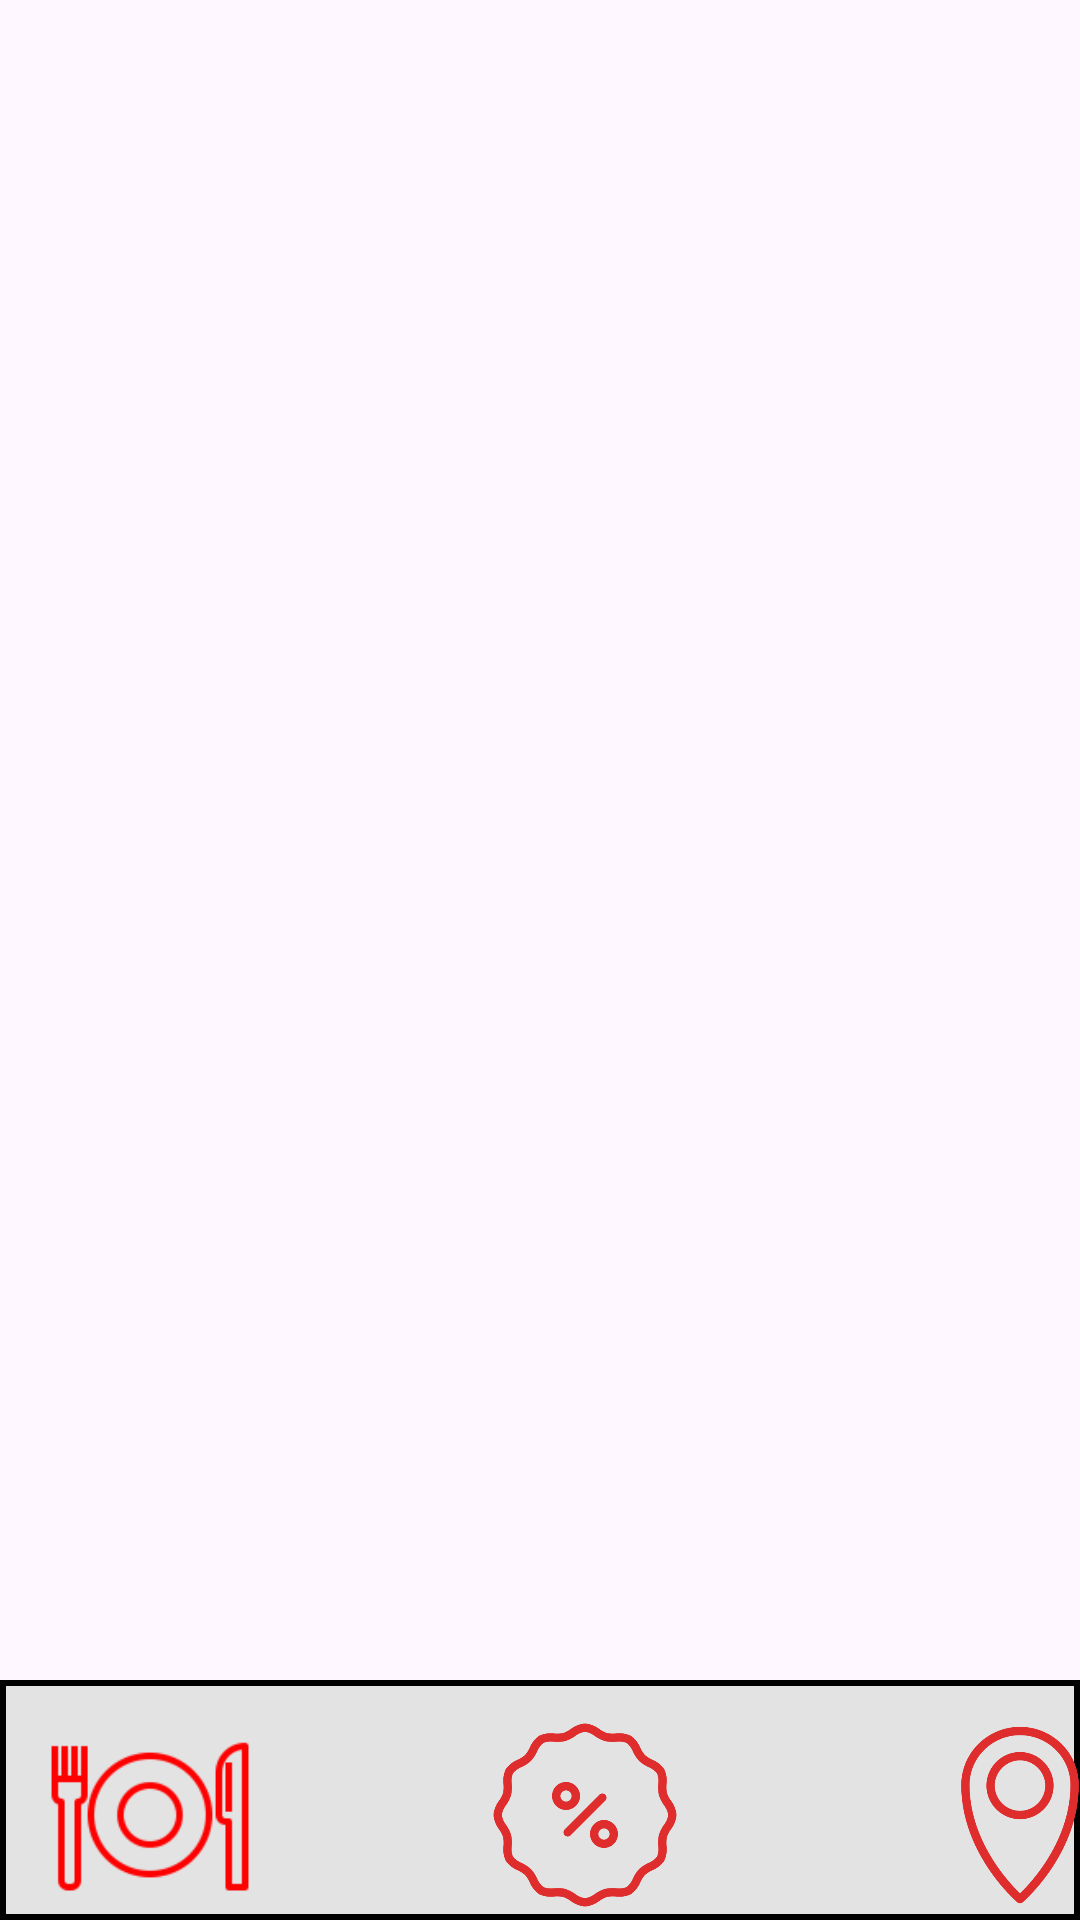

Locate icon controls on the screen. Image size 1080px x 1920px, boxes as (x1, y1, x2, y2).
discount: (493, 1723, 677, 1907)
food: (51, 1742, 249, 1891)
